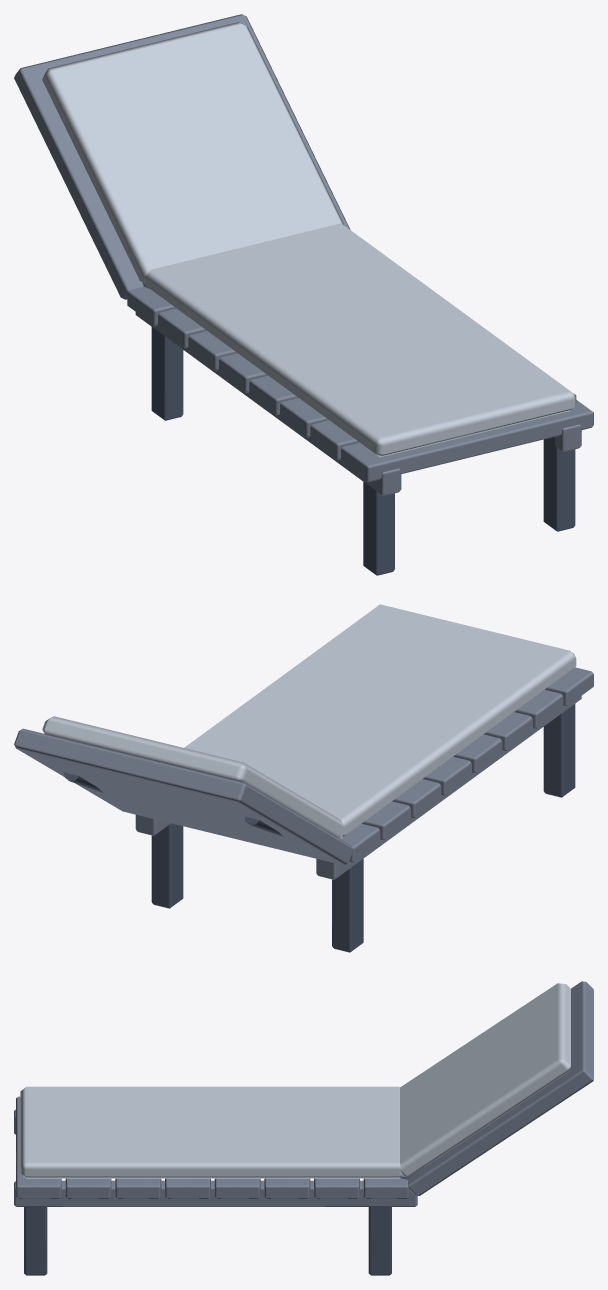
The model's file is garden-lounger-lite.glb.
3 renders of one model, top to bottom at view 1: azimuth 30°, elevation 25°; view 2: azimuth 150°, elevation 25°; view 3: azimuth 270°, elevation 25°, orthographic. The views are drawn at different scales.
Parts seen in each view (by area): view 1: garden-lounger; view 2: garden-lounger; view 3: garden-lounger.
Part boxes in pixels (box(x1,y1,x2,y2)): garden-lounger: box(14, 14, 593, 575); garden-lounger: box(14, 604, 593, 952); garden-lounger: box(14, 981, 593, 1275).
Size of the model in its own units: 0.72 by 0.8 by 1.95.
